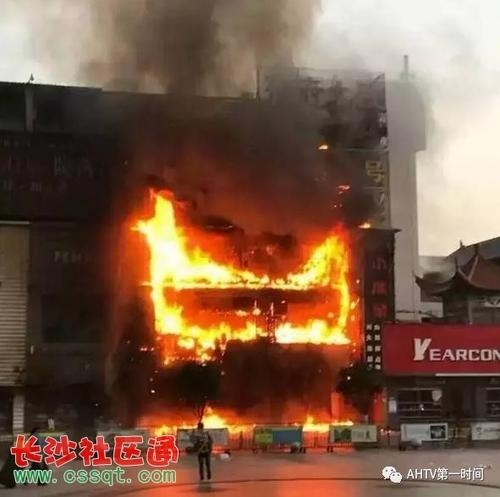fire: (126, 192, 366, 361), (143, 404, 252, 435)
